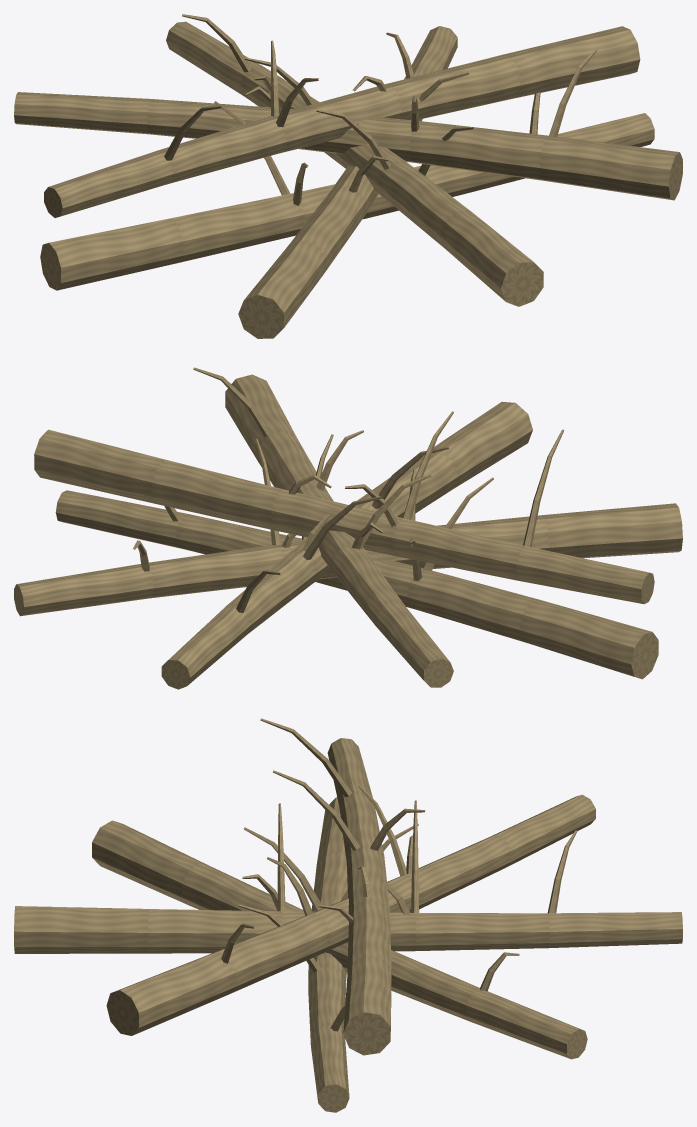
The model's file is drifting_branch_tangle_swamp_and_mangrove_22650.glb.
3 renders of one model, top to bottom at view 1: azimuth 30°, elevation 25°; view 2: azimuth 150°, elevation 25°; view 3: azimuth 270°, elevation 25°, orthographic. The views are drawn at different scales.
Visible parts, largest first — view 1: branch-tangle; view 2: branch-tangle; view 3: branch-tangle.
Boxes of the visible parts, x1,y1,x2,y2 form: branch-tangle: [14, 14, 682, 338]; branch-tangle: [14, 367, 682, 689]; branch-tangle: [14, 718, 682, 1112].
Bounding box in the file's own units: 1.51 × 0.4498 × 1.51.
Materials: 1 (1 with a texture image).
